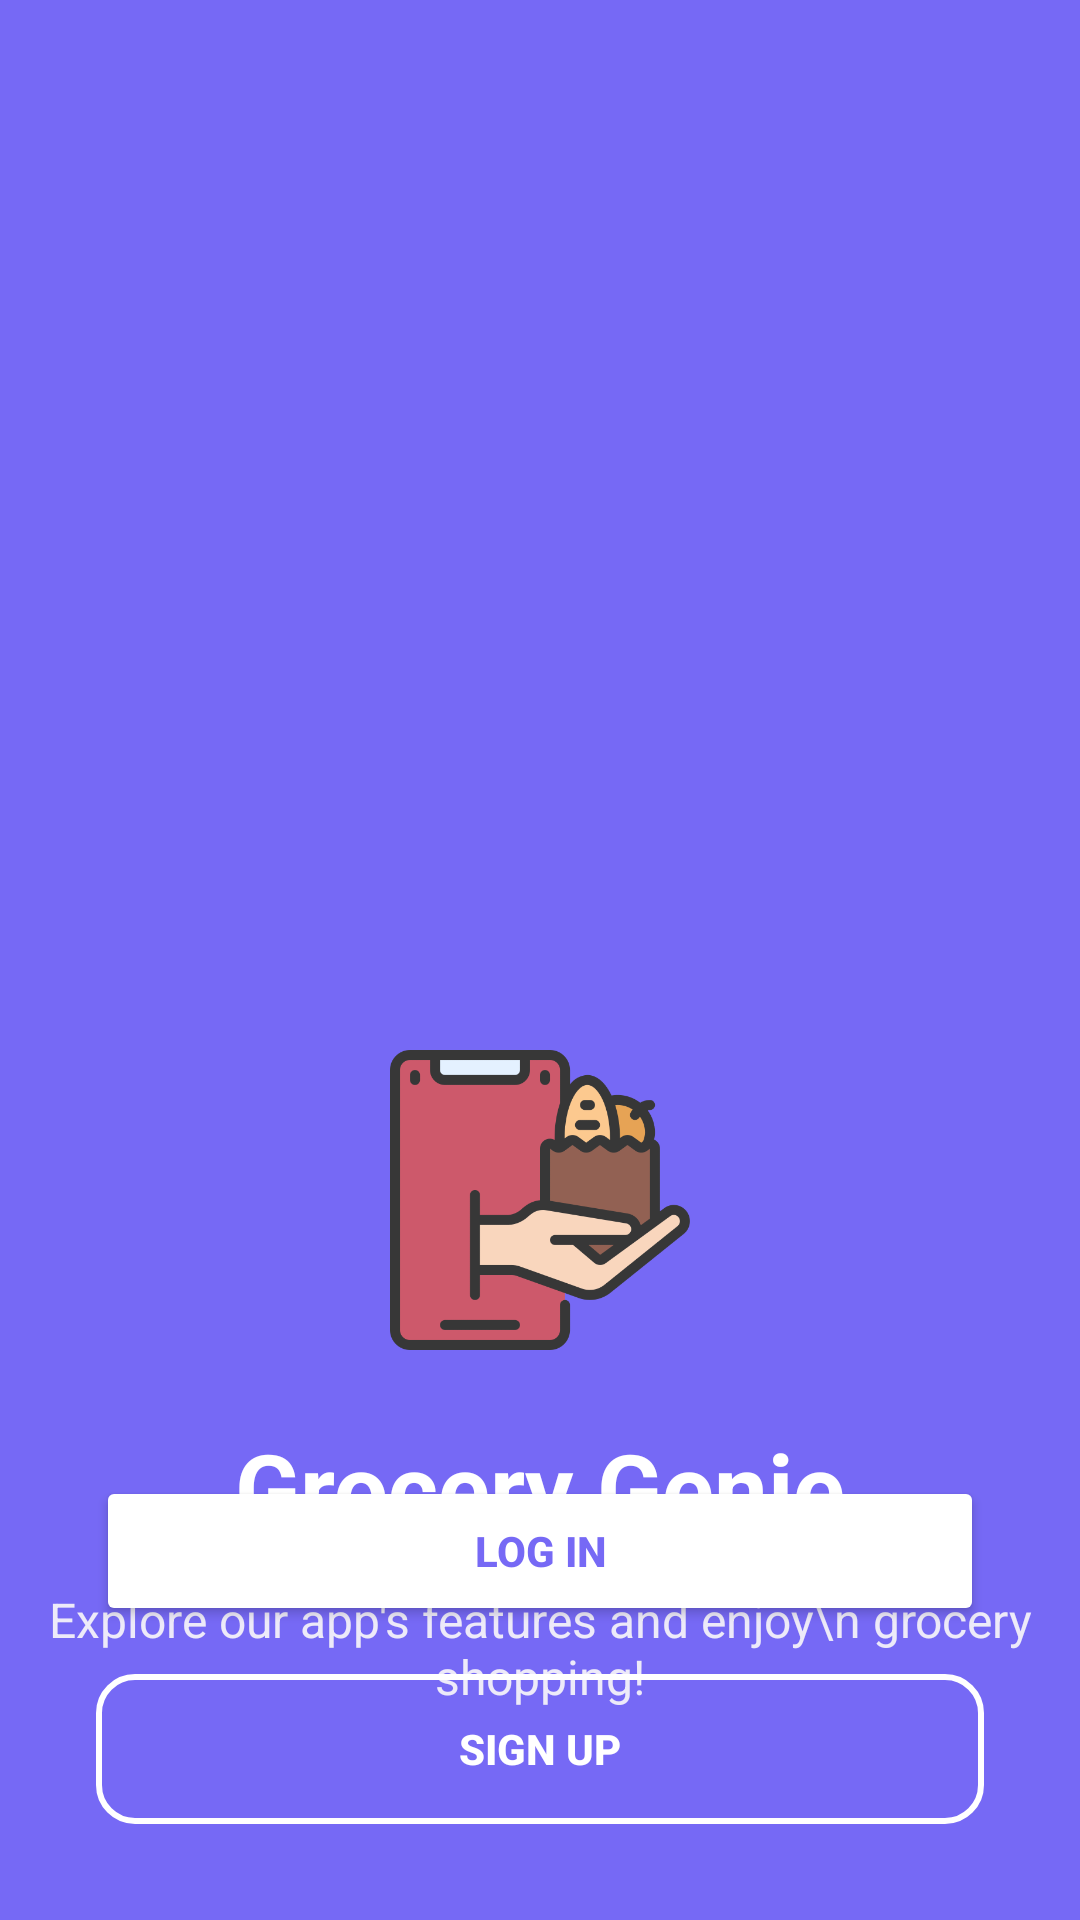

Named icons in this screenshot (1080 × 1920) and their bounding boxes, Rect(x1, y1, x2, y2):
groceries: Rect(390, 1050, 690, 1350)
